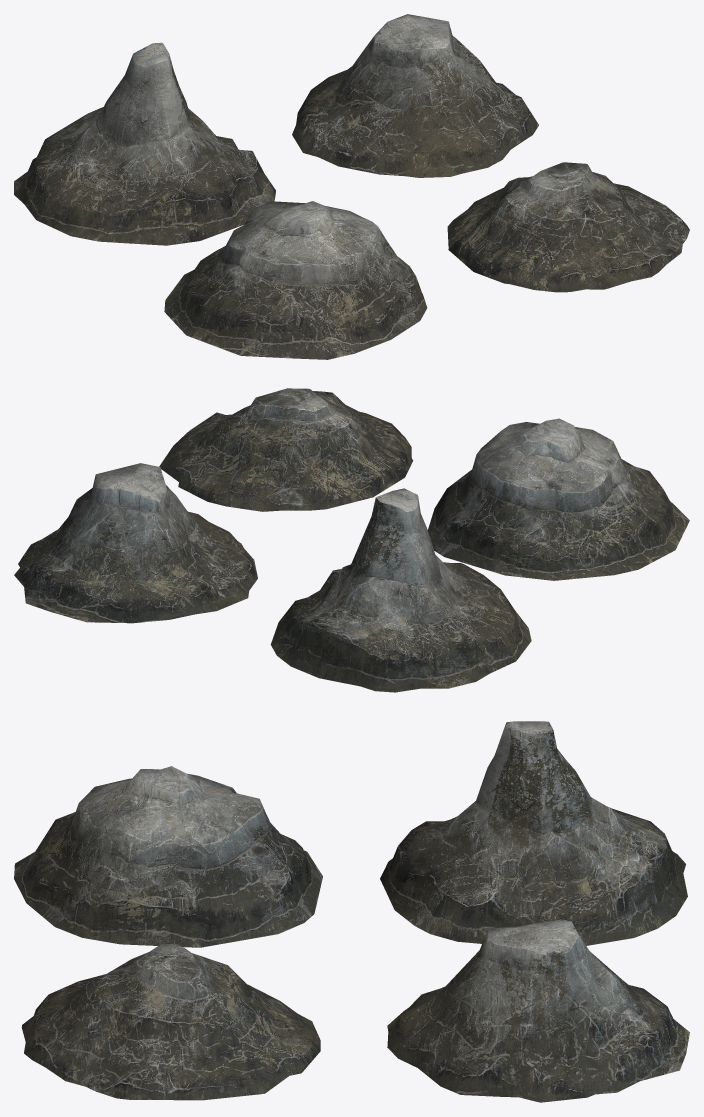
File: Mountains.glb
3 views of the same model, one above another, from view 1: azimuth 30°, elevation 25°; view 2: azimuth 150°, elevation 25°; view 3: azimuth 270°, elevation 25° (orthographic). The views are drawn at different scales.
Visible parts, largest first — view 1: mountain2_mountains_0, mountain1_mountains_0, mountain3_mountains_0, mountain4_mountains_0; view 2: mountain2_mountains_0, mountain1_mountains_0, mountain3_mountains_0, mountain4_mountains_0; view 3: mountain2_mountains_0, mountain1_mountains_0, mountain3_mountains_0, mountain4_mountains_0.
Part boxes in pixels (box(x1,y1,x2,y2)): mountain2_mountains_0: box(14, 42, 275, 245); mountain1_mountains_0: box(164, 201, 427, 359); mountain3_mountains_0: box(292, 14, 538, 177); mountain4_mountains_0: box(447, 162, 689, 292); mountain2_mountains_0: box(270, 488, 531, 692); mountain1_mountains_0: box(427, 418, 689, 580); mountain3_mountains_0: box(14, 463, 257, 623); mountain4_mountains_0: box(159, 388, 413, 511); mountain2_mountains_0: box(380, 721, 687, 945); mountain1_mountains_0: box(14, 766, 322, 947); mountain3_mountains_0: box(387, 919, 689, 1102); mountain4_mountains_0: box(21, 944, 320, 1100).
Size of the model in its own units: 18.95 by 5.1 by 18.93.
Materials: 1 (1 with a texture image).
